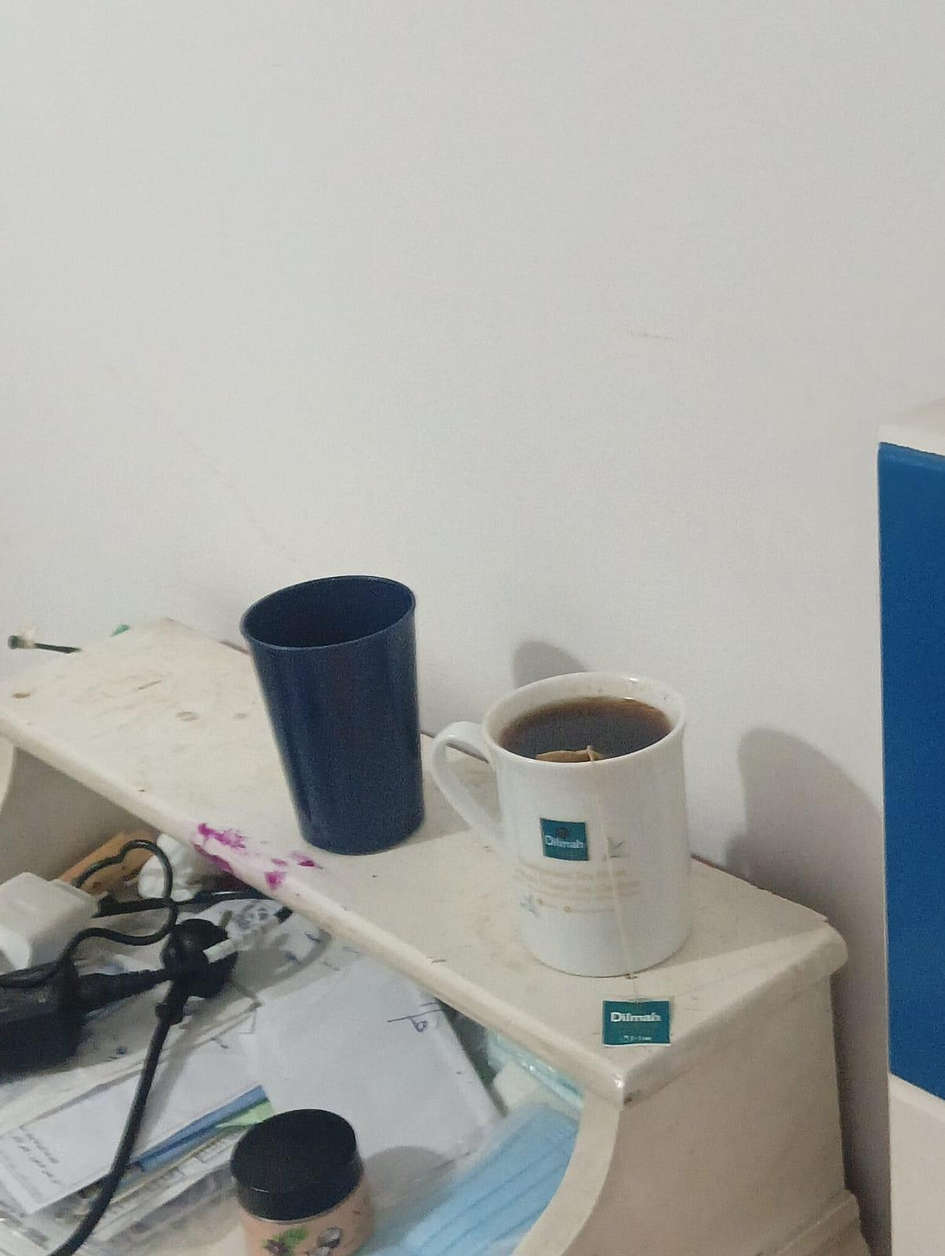cup: (431, 672, 690, 975), (241, 575, 422, 853)
